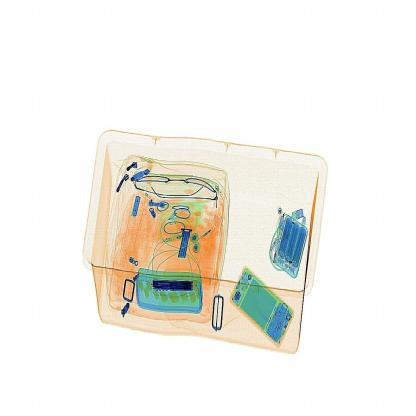scissors: (146, 272, 204, 302)
